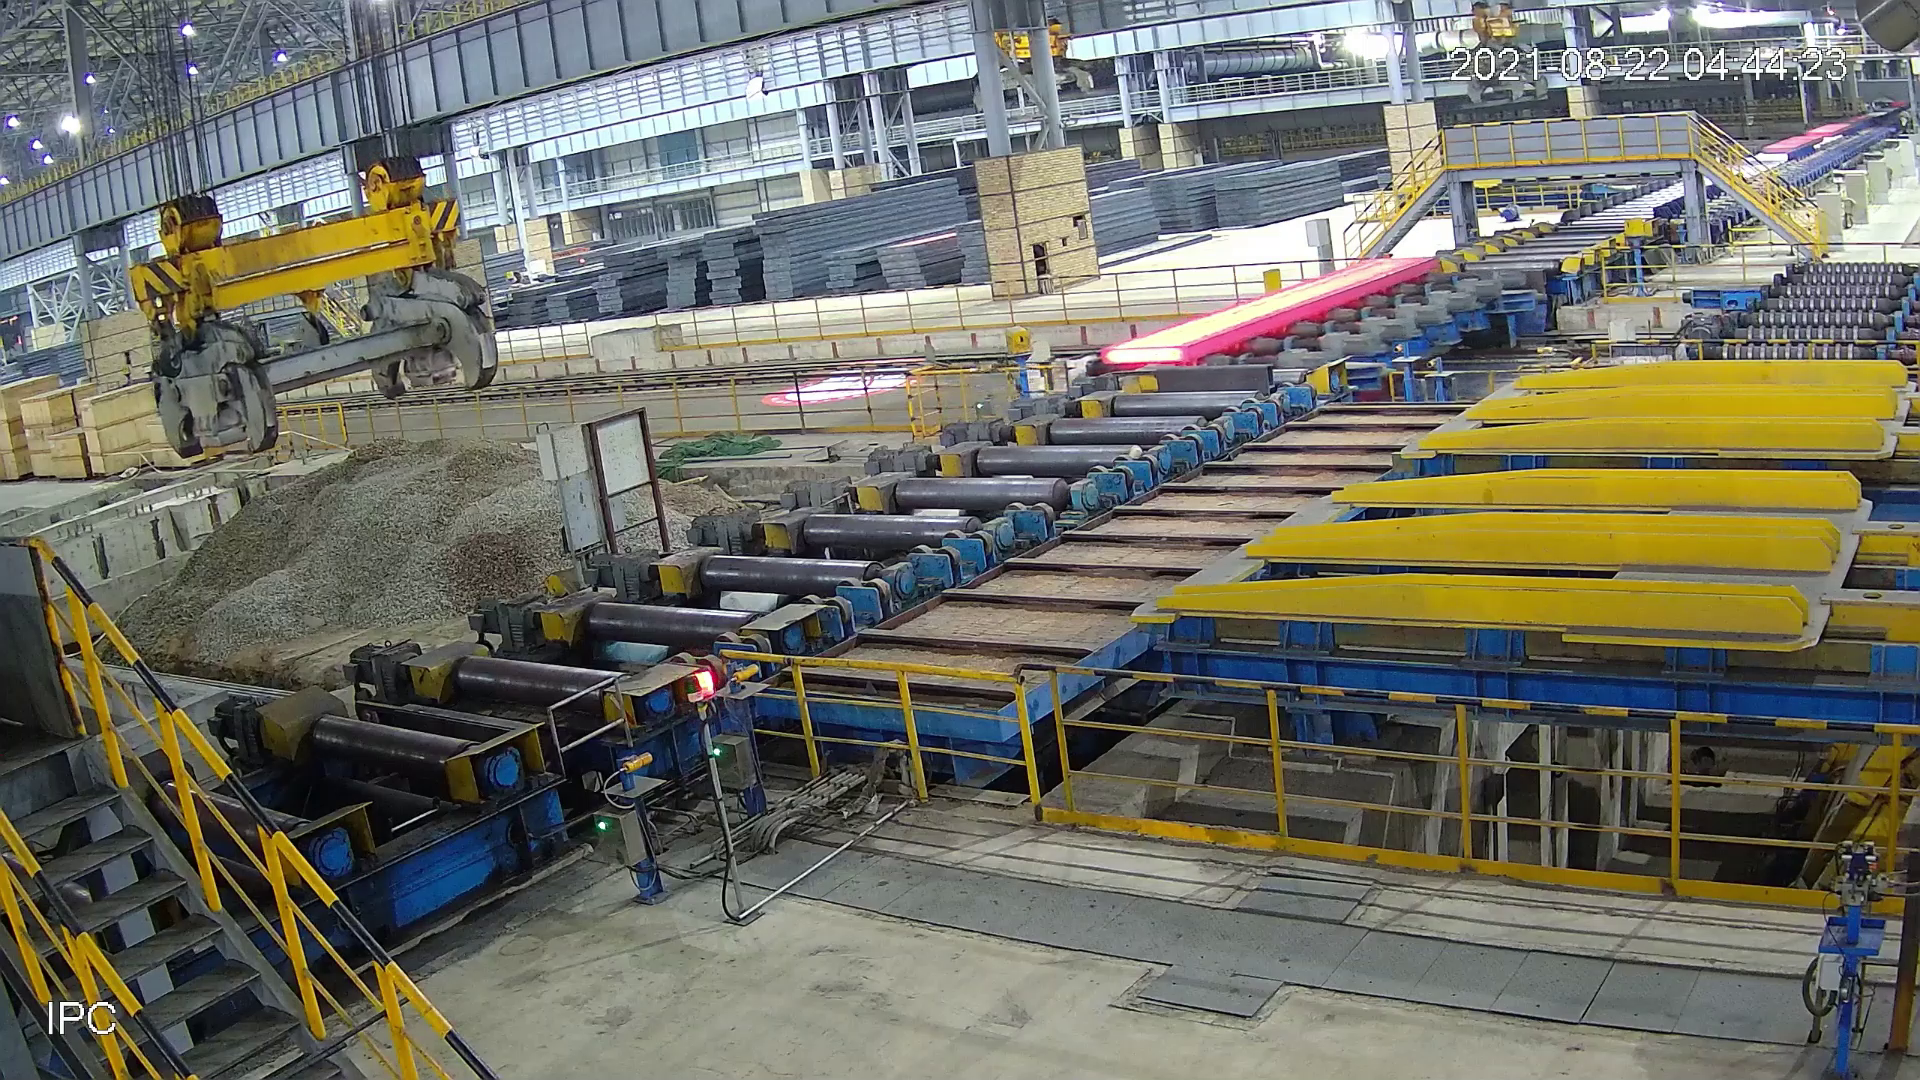crane: (117, 144, 516, 469)
craneandslab: (1458, 5, 1564, 112)
slab: (1093, 255, 1445, 365)
